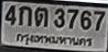letters: (34, 6, 49, 30), (18, 5, 33, 28), (93, 10, 107, 32), (4, 4, 17, 27), (67, 8, 80, 30), (53, 8, 66, 29), (80, 10, 93, 31)
province: (16, 33, 93, 48)
